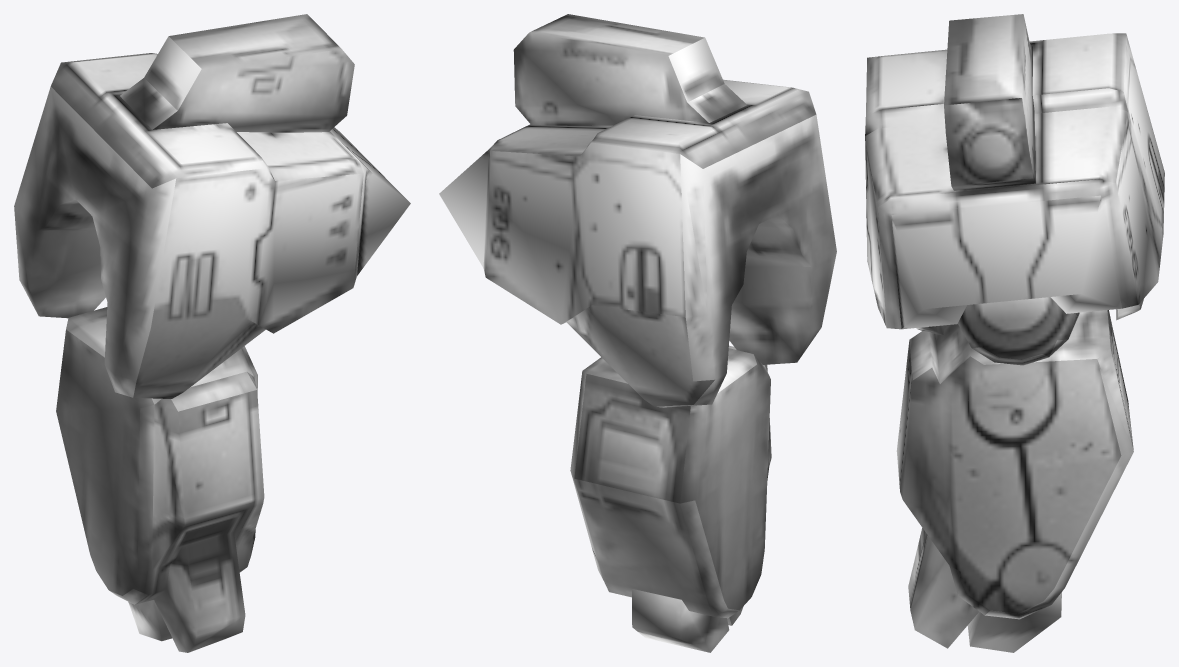
The model's file is l_upper.glb.
The picture shows the model from 3 angles, left to right: view 1: azimuth 30°, elevation 25°; view 2: azimuth 150°, elevation 25°; view 3: azimuth 270°, elevation 25°; orthographic projection. The views are drawn at different scales.
Visible parts, largest first — view 1: l_upper; view 2: l_upper; view 3: l_upper.
Part boxes in pixels (x1,y1,x2,y2): l_upper: (14, 14, 410, 652); l_upper: (439, 14, 836, 652); l_upper: (865, 14, 1164, 652).
Size of the model in its own units: 1.51 by 2.8 by 1.22.
3 materials, 3 textured.
